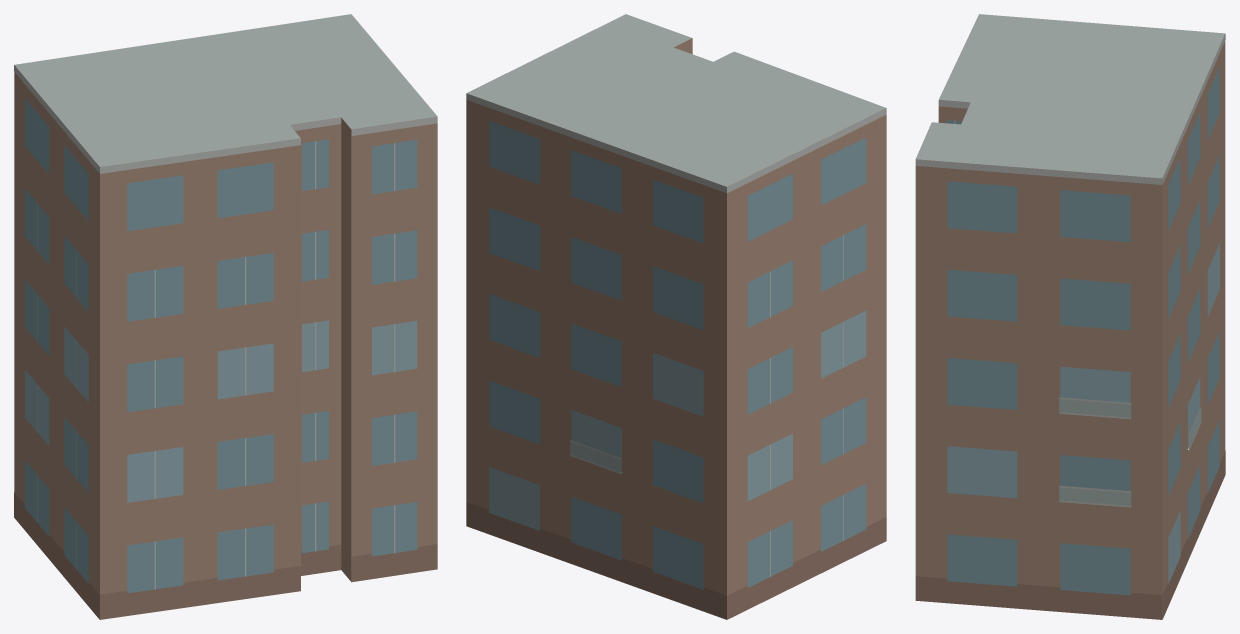
The model's file is survey-upis-32536521.glb.
3 renders of one model, left to right at view 1: azimuth 30°, elevation 25°; view 2: azimuth 150°, elevation 25°; view 3: azimuth 270°, elevation 25°, orthographic. The views are drawn at different scales.
Visible parts, largest first — view 1: survey-upis-32536521.tmp; view 2: survey-upis-32536521.tmp; view 3: survey-upis-32536521.tmp.
Part boxes in pixels (x1,y1,x2,y2): survey-upis-32536521.tmp: [14, 14, 437, 619]; survey-upis-32536521.tmp: [466, 14, 886, 619]; survey-upis-32536521.tmp: [915, 14, 1225, 619].
Size of the model in its own units: 13.11 by 16.4 by 10.45.
